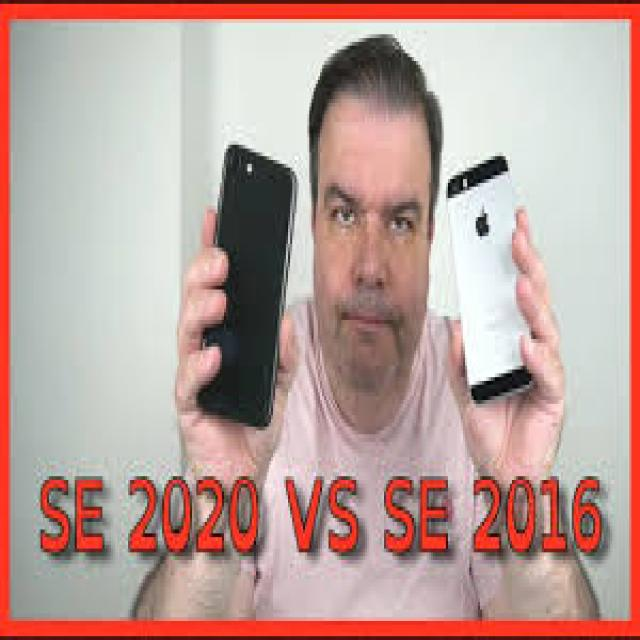mobile phone: (196, 137, 297, 427), (444, 148, 535, 404)
